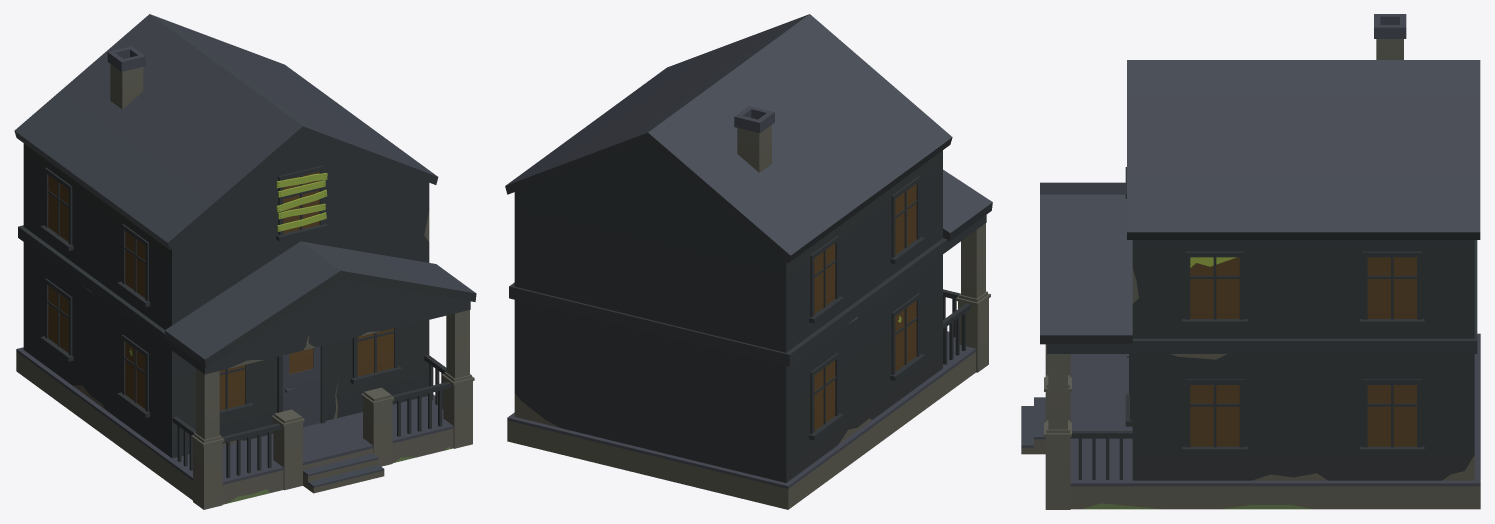
Rendered from OldHouse_15.fbx.
The picture shows the model from 3 angles, left to right: view 1: azimuth 30°, elevation 25°; view 2: azimuth 150°, elevation 25°; view 3: azimuth 270°, elevation 25°; orthographic projection. The views are drawn at different scales.
Parts seen in each view (by area): view 1: OldHouse_15; view 2: OldHouse_15; view 3: OldHouse_15.
Part boxes in pixels (x1=…): OldHouse_15: x1=14, y1=14, x2=476, y2=509; OldHouse_15: x1=505, y1=14, x2=992, y2=509; OldHouse_15: x1=1021, y1=14, x2=1480, y2=509.
Size of the model in its own units: 6.34 by 7.33 by 8.06.
